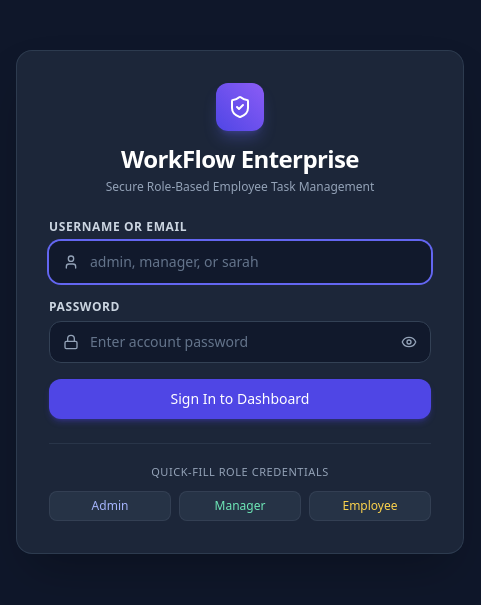
Test: Authentication & Authorization Frontend Suite › 2. validates required username and password fields on submit
Click the button "Sign In to Dashboard" at x=240, y=399, box [49,379,431,419]
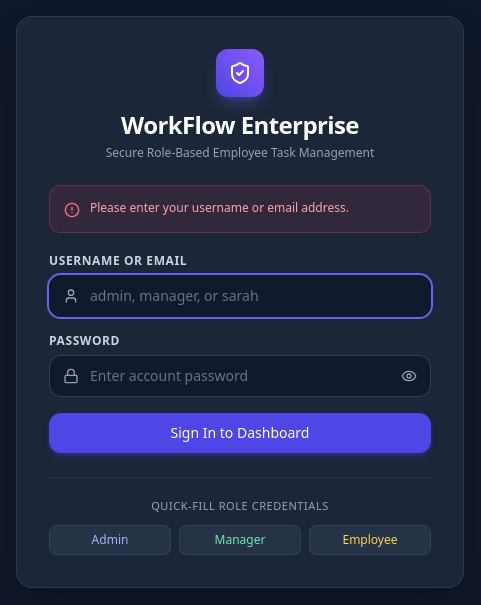
Expected: the text "Please enter your username or email address." is shown, [90,200,349,216]
Type "admin" into the field with placeholder "admin, manager, or sarah" at x=240, y=296, box [49,275,431,317]
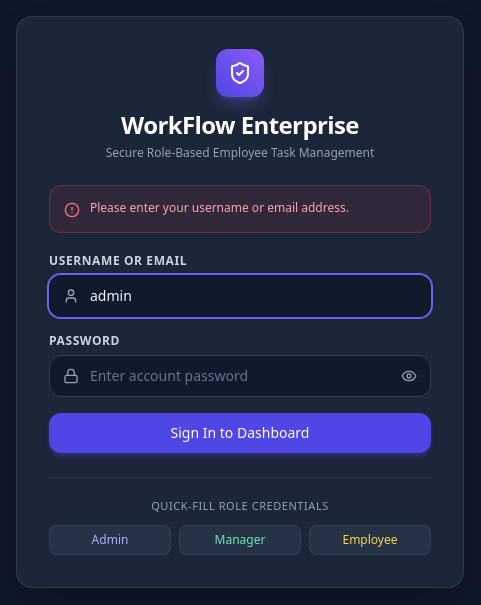
Click the button "Sign In to Dashboard" at x=240, y=433, box [49,413,431,453]
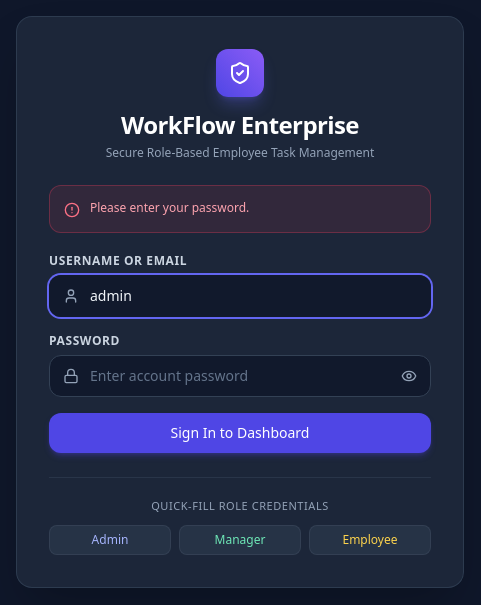
Expected: the text "Please enter your password." is shown, [90,200,249,216]
